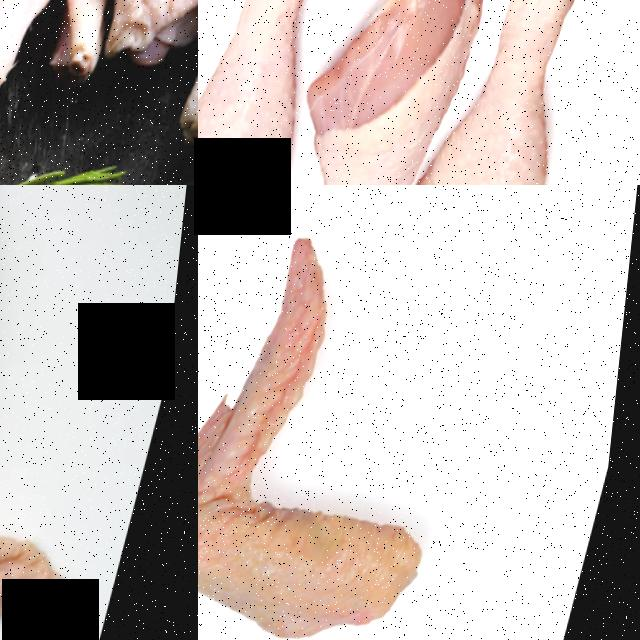chicken thigh: (249, 0, 492, 185), (399, 0, 622, 185), (198, 0, 359, 185)
chicken wing: (198, 193, 518, 640), (0, 185, 197, 640), (74, 0, 198, 185)
